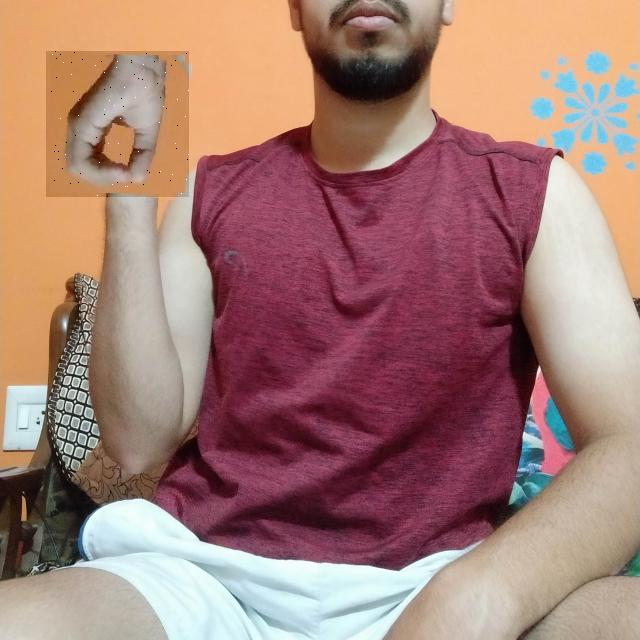O: (46, 51, 189, 197)
